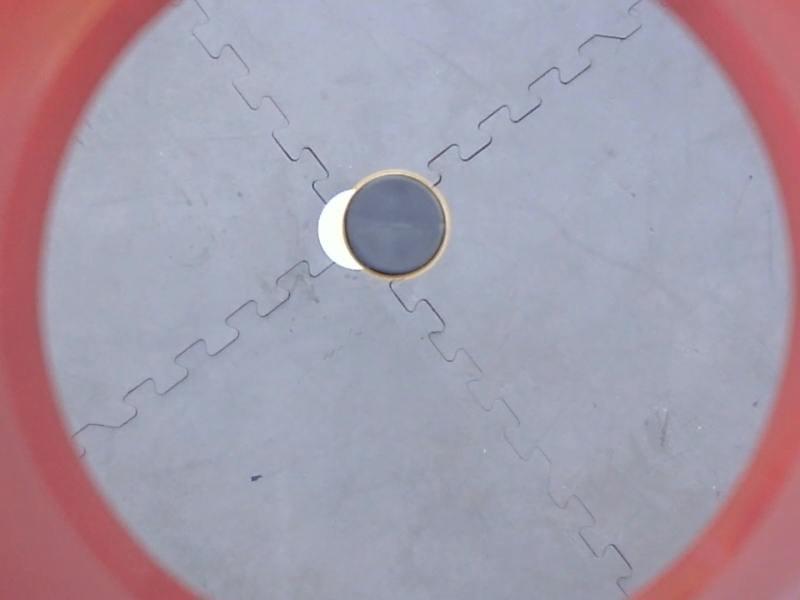tip: (335, 166, 455, 286)
